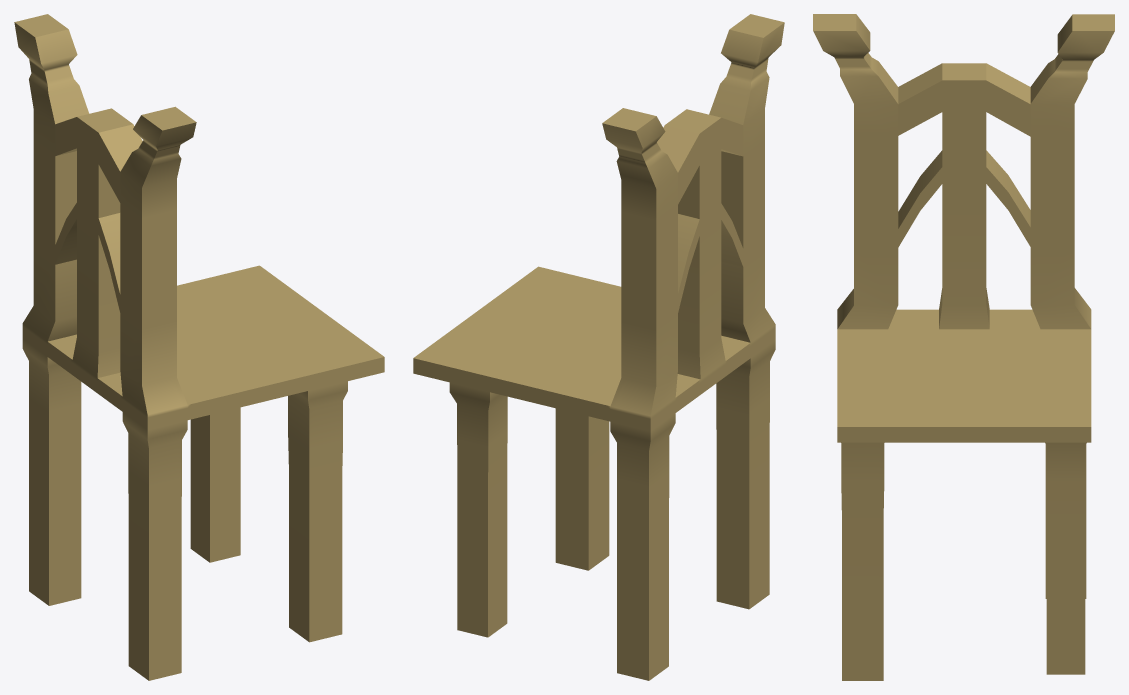
File: Gluttony_Chair.fbx
The picture shows the model from 3 angles, left to right: view 1: azimuth 30°, elevation 25°; view 2: azimuth 150°, elevation 25°; view 3: azimuth 270°, elevation 25°; orthographic projection.
Visible parts, largest first — view 1: pCube2; view 2: pCube2; view 3: pCube2.
Boxes of the visible parts, box(x1,y1,x2,y2) form: pCube2: box(14, 14, 384, 680); pCube2: box(413, 14, 784, 680); pCube2: box(813, 14, 1114, 680).
Bounding box in the file's own units: 1.55 × 3.5 × 1.68.
